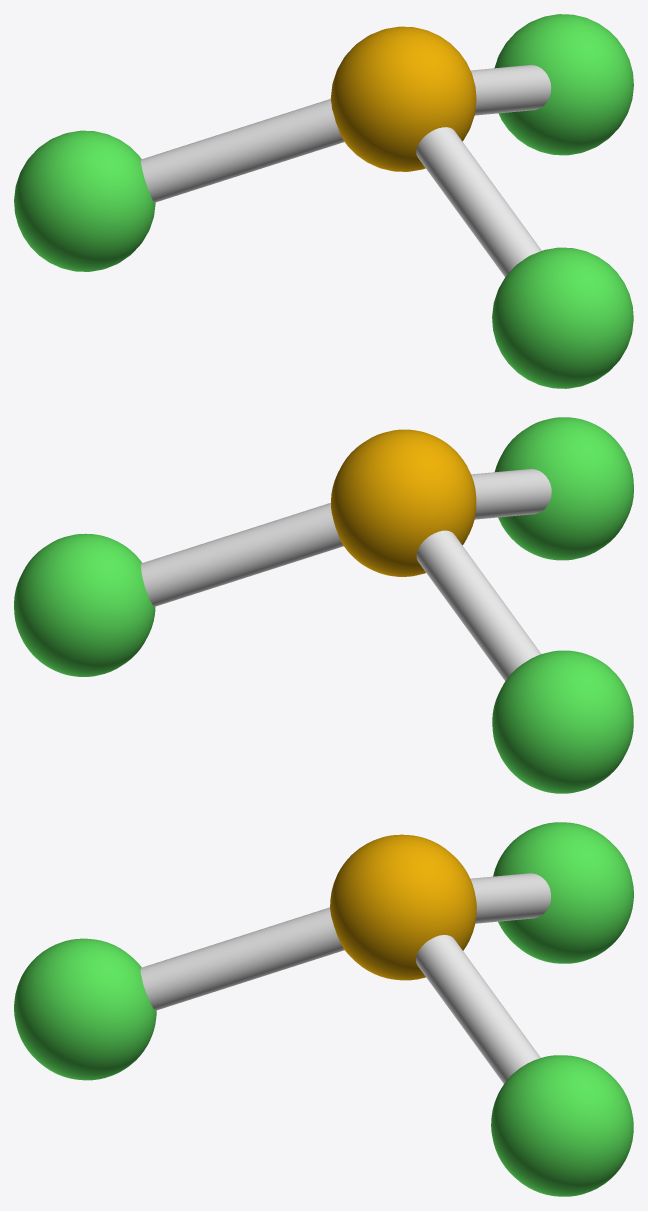
File: PCl3.fbx
3 renders of one model, top to bottom at view 1: azimuth 30°, elevation 25°; view 2: azimuth 150°, elevation 25°; view 3: azimuth 270°, elevation 25°, orthographic.
Visible parts, largest first — view 1: PCl3; view 2: PCl3; view 3: PCl3.
Part boxes in pixels (x1,y1,x2,y2): PCl3: [14, 14, 633, 388]; PCl3: [14, 417, 633, 793]; PCl3: [14, 822, 633, 1196].
Size of the model in its own units: 4.19 by 1.55 by 3.75.
